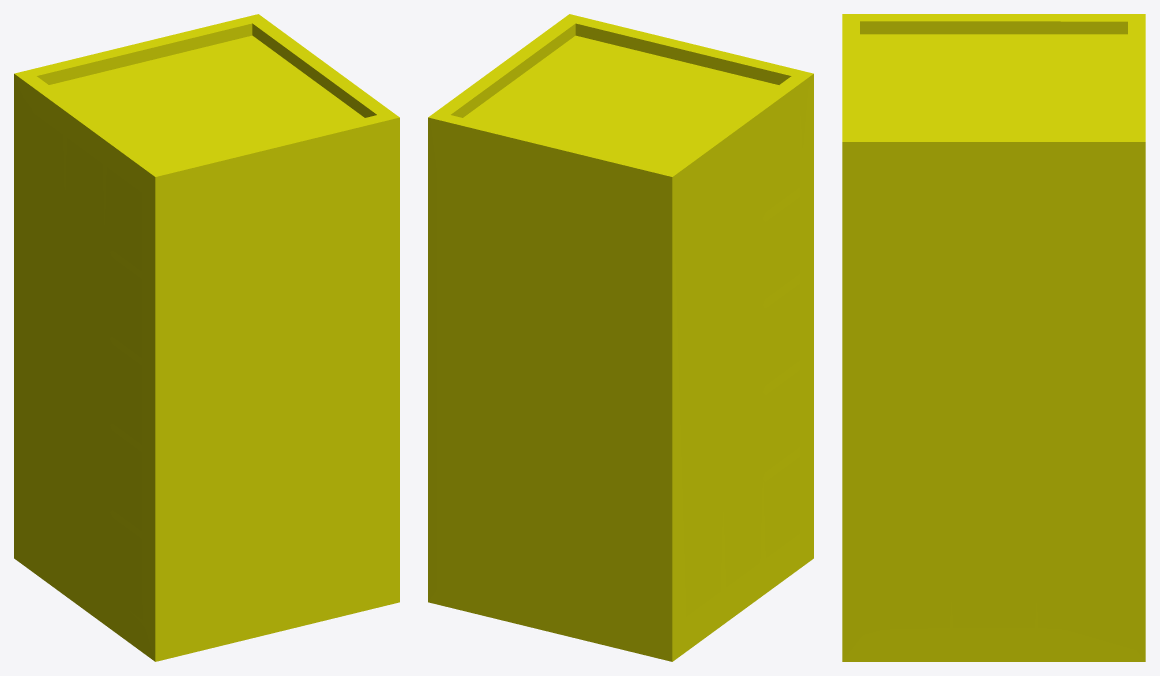
3 renders of one model, left to right at view 1: azimuth 30°, elevation 25°; view 2: azimuth 150°, elevation 25°; view 3: azimuth 270°, elevation 25°, orthographic. The views are drawn at different scales.
Visible parts, largest first — view 1: bulding_decor; view 2: bulding_decor; view 3: bulding_decor.
Boxes of the visible parts, box(x1,y1,x2,y2) form: bulding_decor: box(14, 14, 399, 661); bulding_decor: box(428, 14, 813, 661); bulding_decor: box(842, 14, 1145, 661).
Bounding box in the file's own units: 6.54 × 12.4 × 6.56.
Materials: 1 (1 with a texture image).
